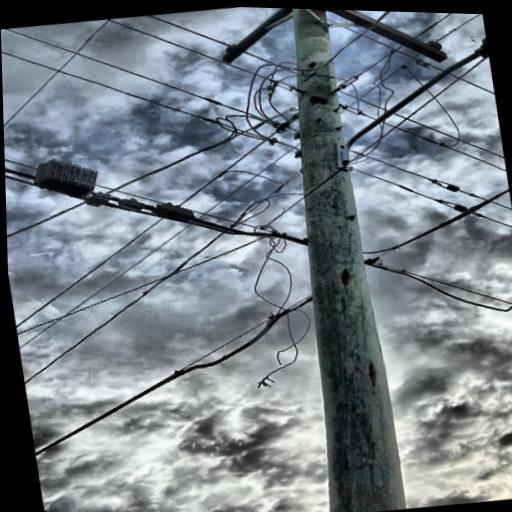pole: (230, 7, 423, 512)
street light: (311, 9, 504, 173)
